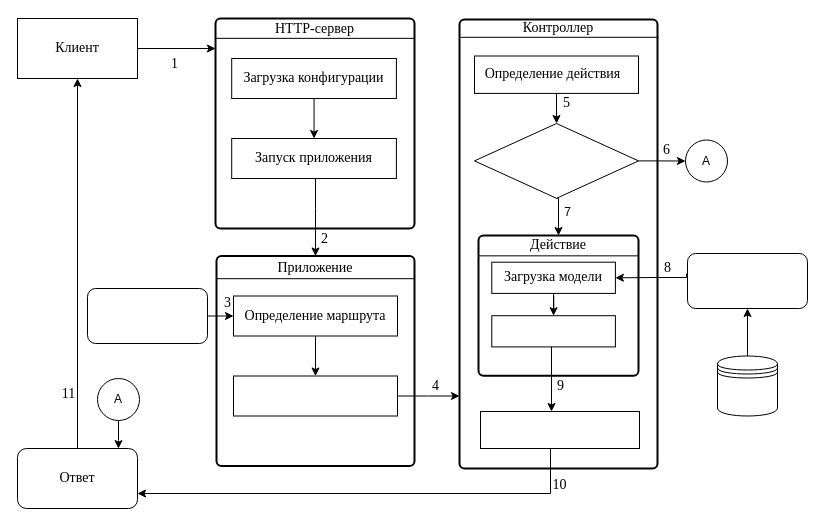
Image size: 825x526. Some labels were removed from this diagram. The centre of each missing label's shape, as x and y in pixels:
Выполнение фильтров: the point at 556,160
Запрос: the point at 147,316
Модель: the point at 747,280
Обработка модели: the point at 553,331
Сериализация данных: the point at 560,429
Создание контроллера: the point at 315,395
